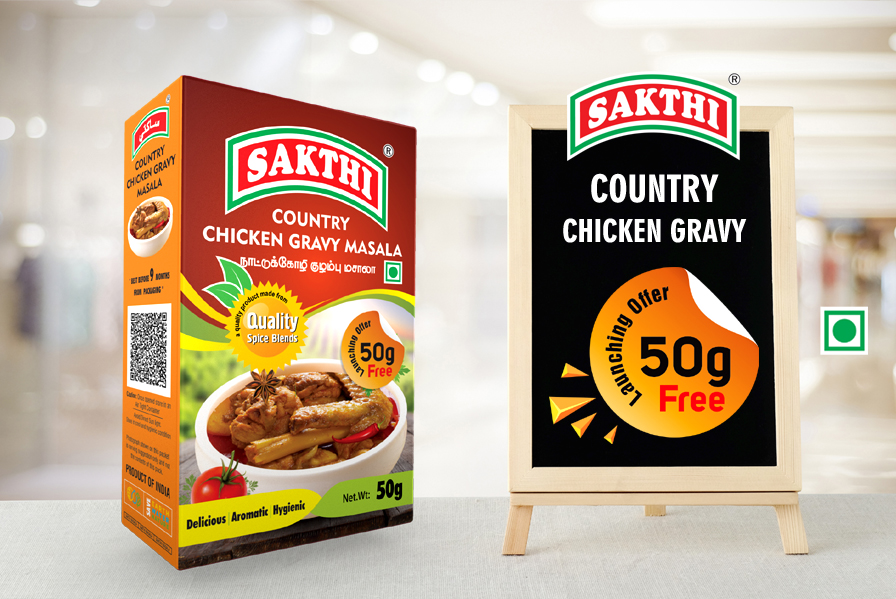VEG: (822, 305, 868, 357), (385, 262, 402, 285)
